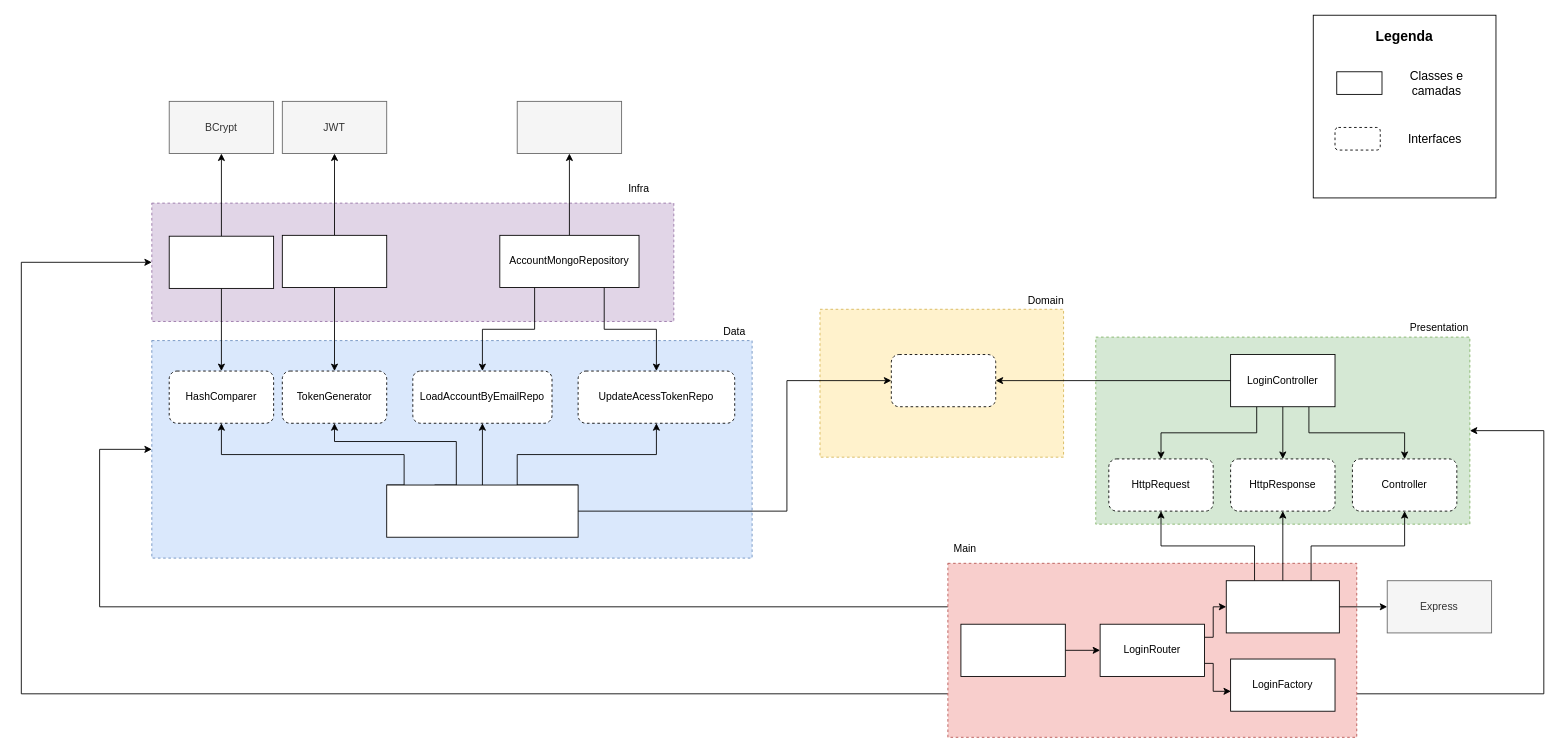
This 1566x753 diagram has some shape labels left out. Here are the shapes that lost their labels. From the top down, the box of each, then its label:
(516, 100, 622, 154): MongoDb
(168, 235, 274, 288): BcryptAdapter
(281, 234, 387, 288): JwtAdapter
(890, 354, 996, 407): Authentication
(386, 484, 578, 537): DbAuthentication
(1225, 580, 1339, 633): ExpressRouteAdapter
(960, 623, 1065, 676): App
